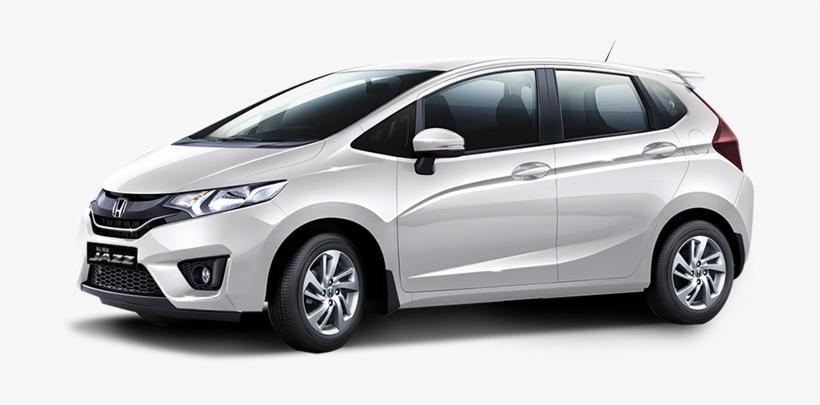Hatchback: (68, 47, 770, 353)
